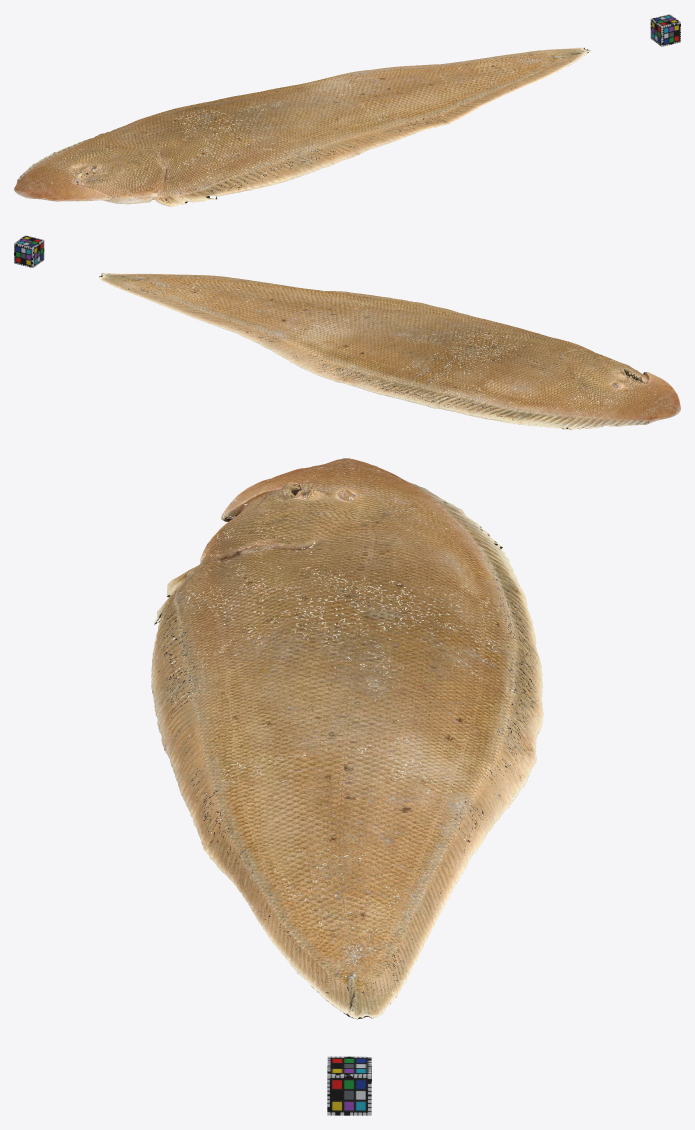
The model's file is scan_sole_black.glb.
3 views of the same model, one above another, from view 1: azimuth 30°, elevation 25°; view 2: azimuth 150°, elevation 25°; view 3: azimuth 270°, elevation 25° (orthographic). The views are drawn at different scales.
Parts seen in each view (by area): view 1: Object_6, Object_13, Object_4; view 2: Object_6, Object_13, Object_4; view 3: Object_6, Object_13, Object_4.
Part boxes in pixels (x1,y1,x2,y2): Object_6: (14, 47, 589, 206); Object_13: (14, 47, 590, 206); Object_4: (650, 14, 680, 46); Object_6: (99, 273, 680, 429); Object_13: (99, 273, 680, 429); Object_4: (14, 235, 44, 267); Object_6: (151, 458, 543, 1018); Object_13: (151, 463, 543, 1019); Object_4: (327, 1056, 371, 1115).
Bounding box in the file's own units: 21.55 × 1.03 × 5.57.
Materials: 3 (3 with a texture image).
